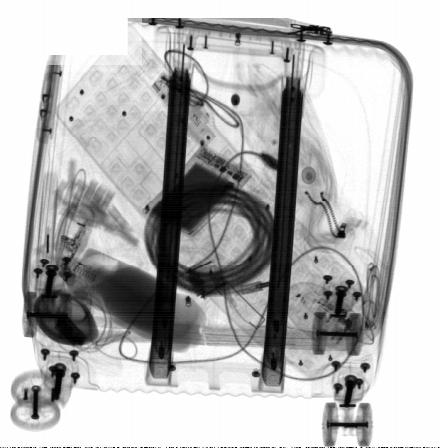Powerbank: (142, 143, 253, 239)
